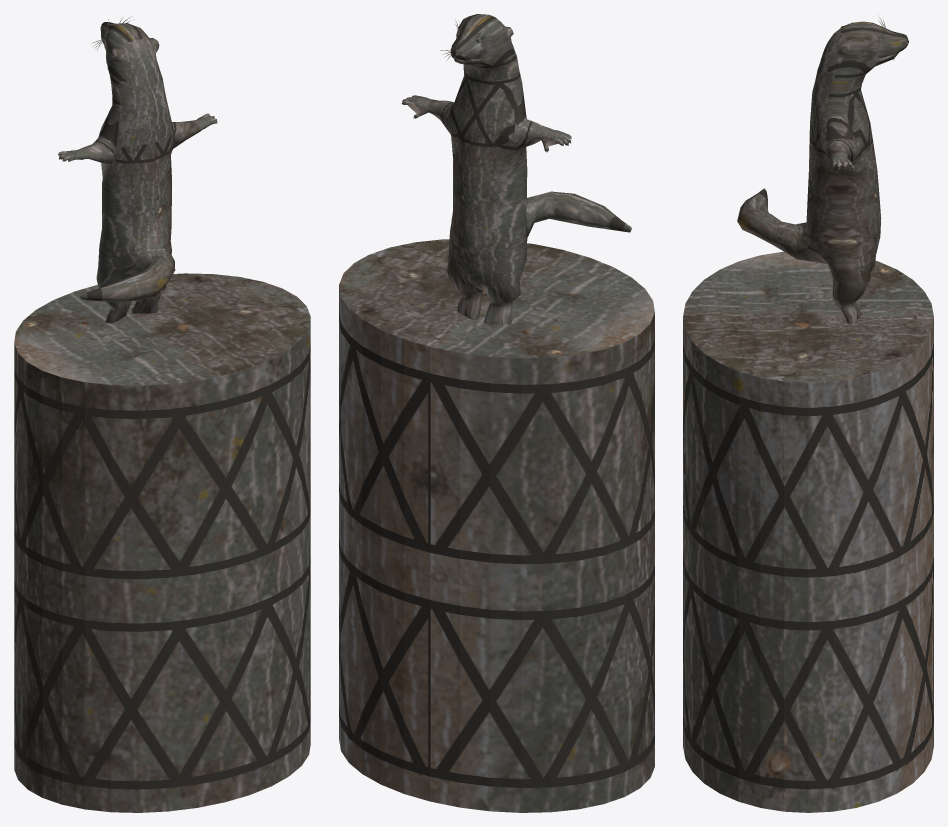
File: Totem-Nutria.fbx
3 renders of one model, left to right at view 1: azimuth 30°, elevation 25°; view 2: azimuth 150°, elevation 25°; view 3: azimuth 270°, elevation 25°, orthographic. The views are drawn at different scales.
Parts seen in each view (by area): view 1: Totem Base.007; view 2: Totem Base.007; view 3: Totem Base.007.
Boxes of the visible parts, x1,y1,x2,y2 form: Totem Base.007: (14,17,310,812); Totem Base.007: (339,14,654,812); Totem Base.007: (683,17,933,812).
Size of the model in its own units: 2 by 5.08 by 1.6.
Materials: 1 (1 with a texture image).
